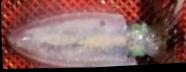Cephalopod: (9, 14, 173, 68)
